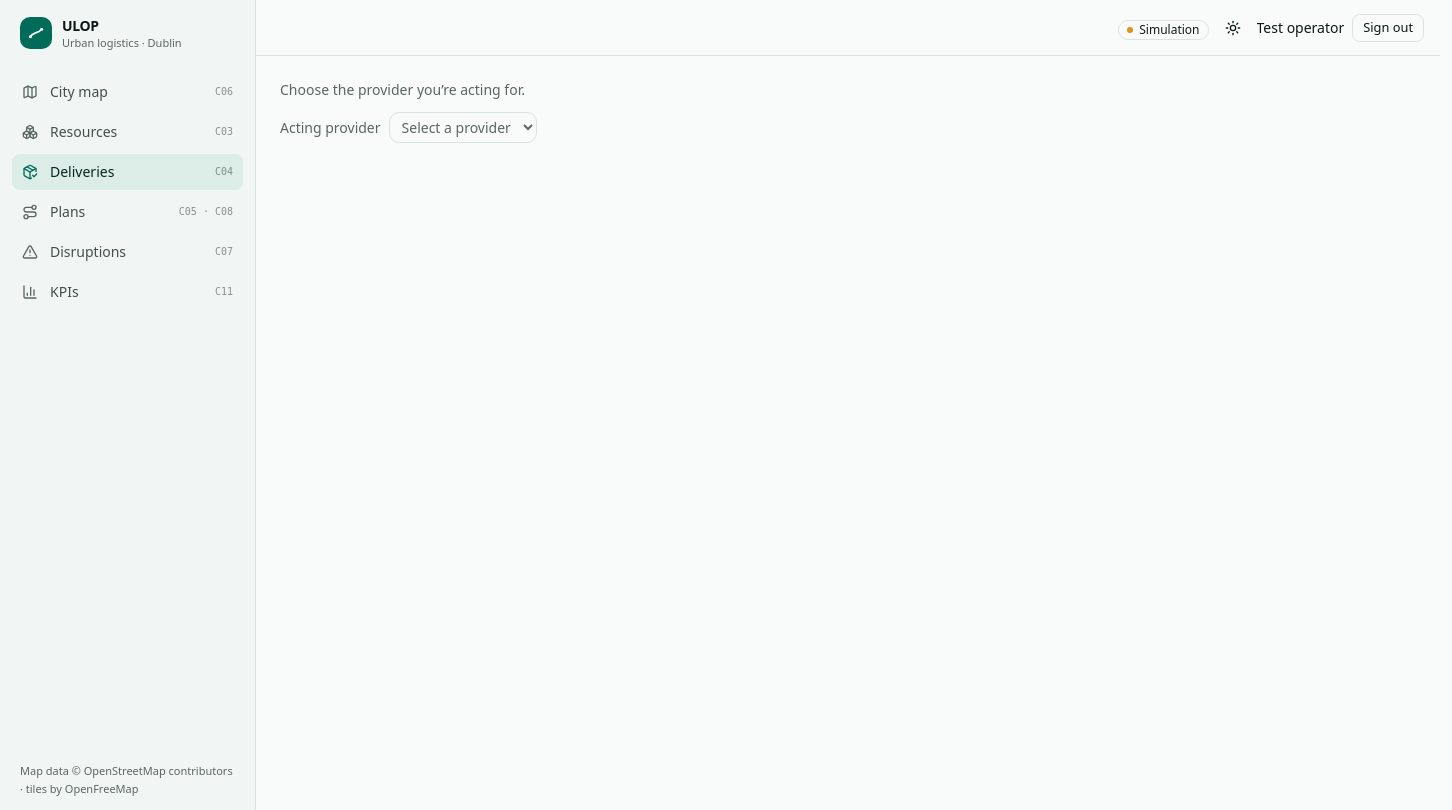
Test: Deliveries page (C01 → C04) › retries the same delivery when response lost
Step 1. Select "Dublin Fleet A" in the dropdown labelled "Acting provider" → (463,128), box [389,112,537,143]
(page scrolled)
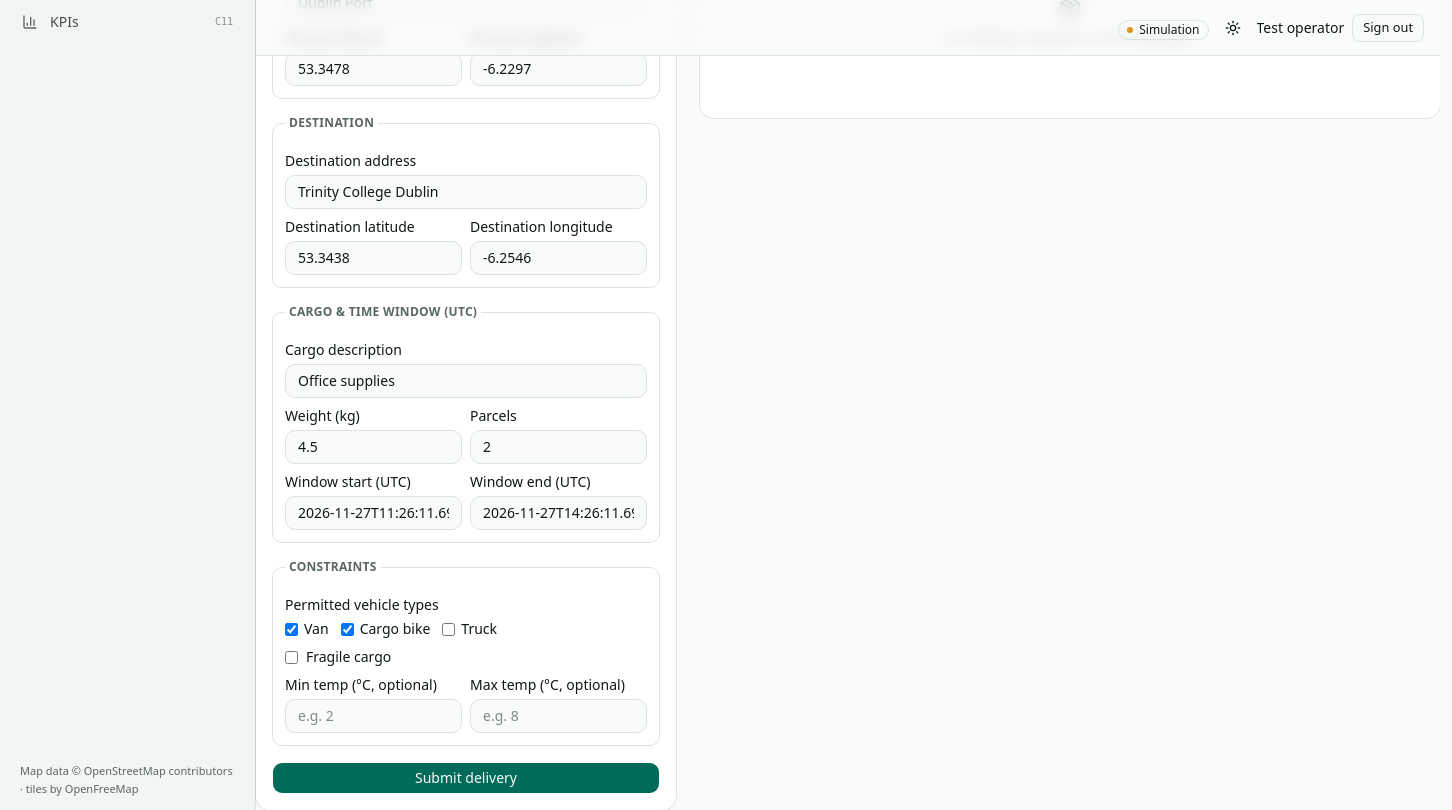
Step 2. Click the button "Submit delivery" → (466,778), box [272,762,660,794]
(page scrolled)
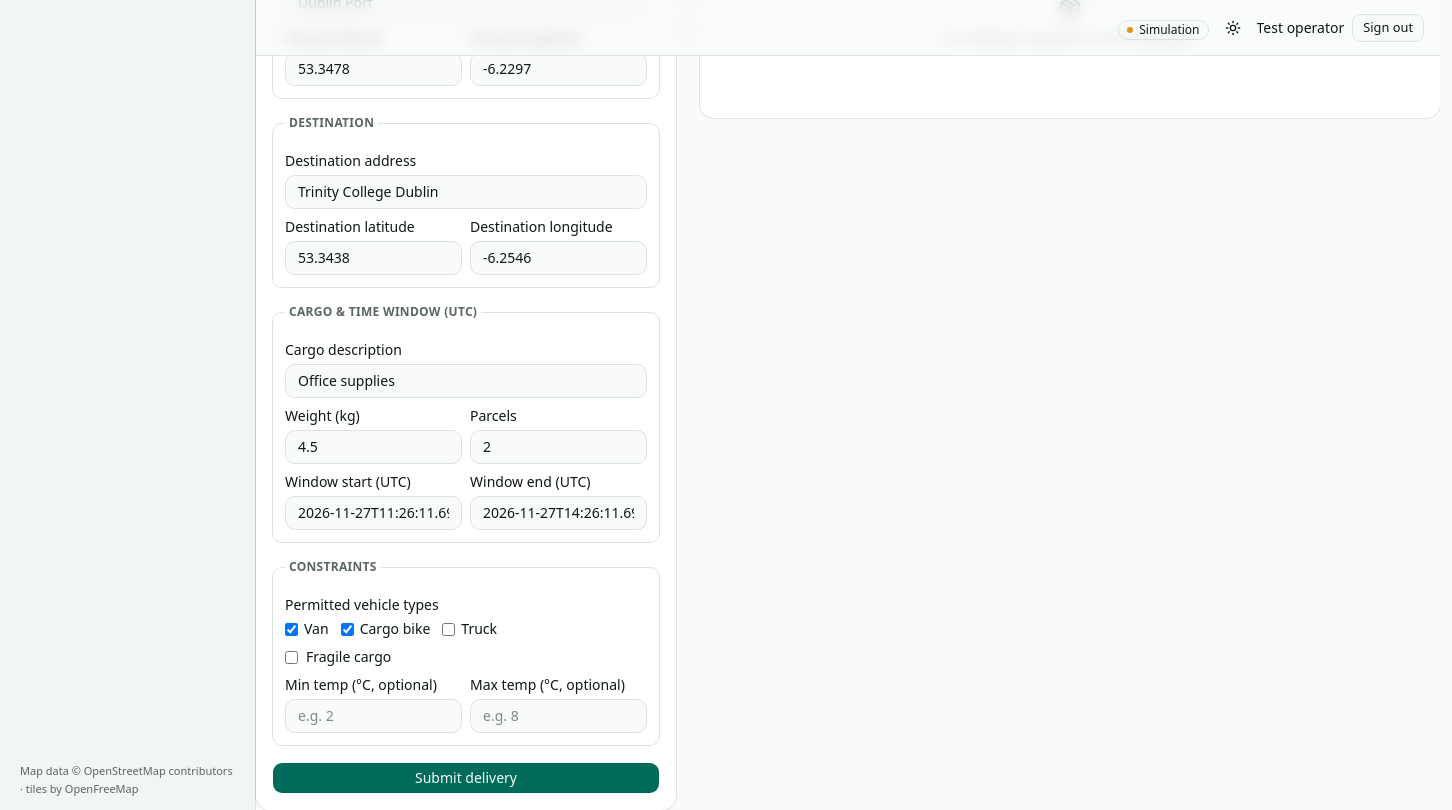
Step 3. Click the button "Submit delivery" → (466,778), box [272,762,660,794]
(page scrolled)
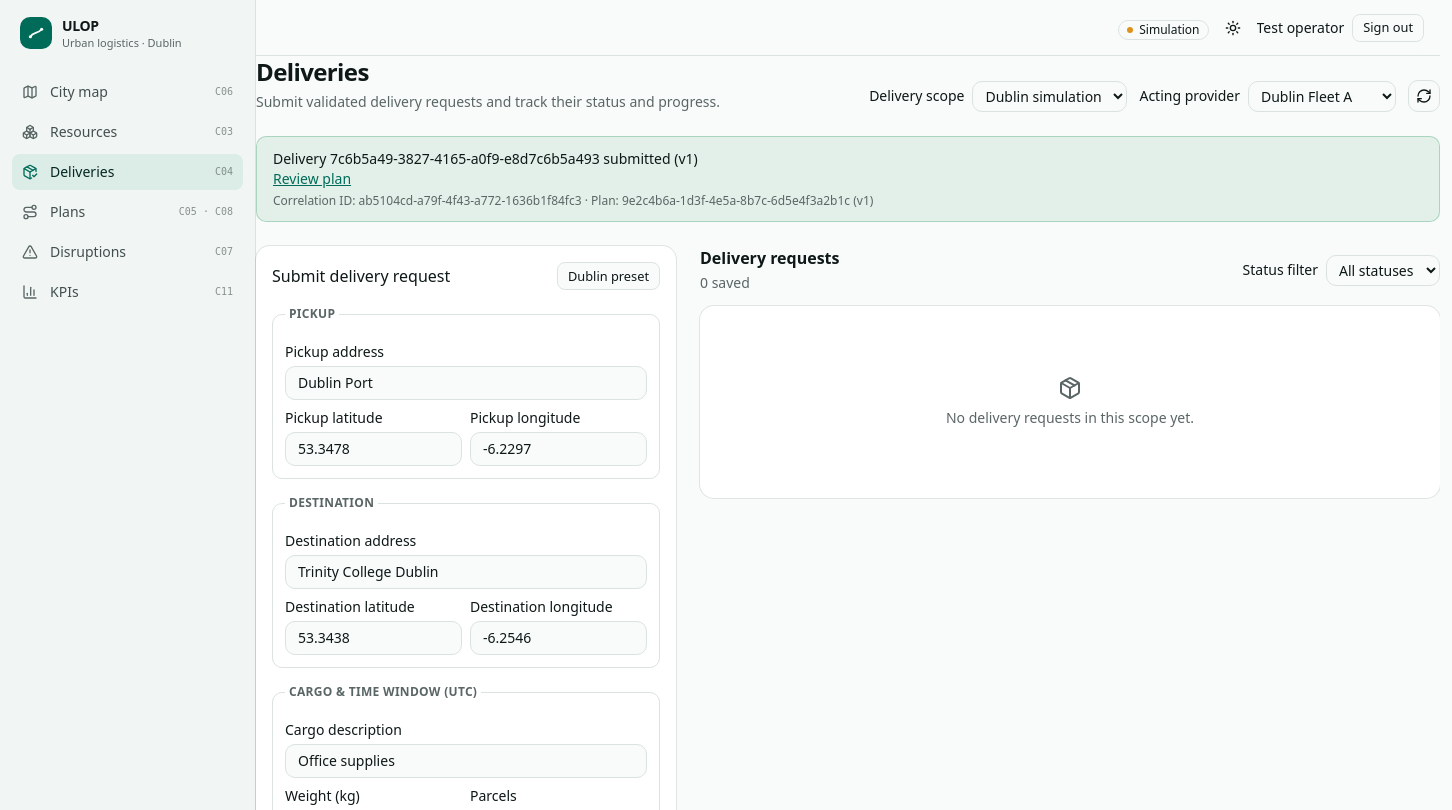
Result: the link "Review plan" is shown at [273,169,351,188]
